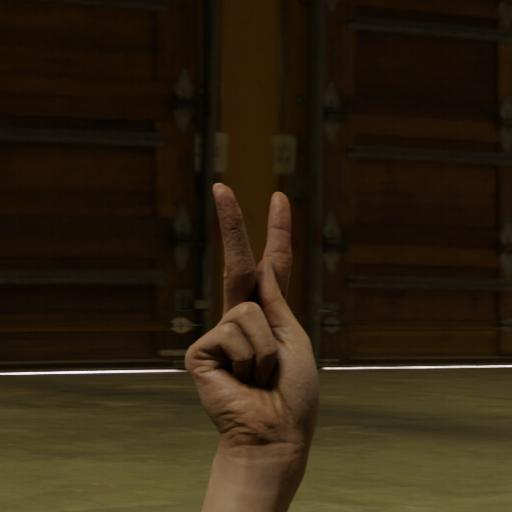K: (149, 148, 356, 468)
